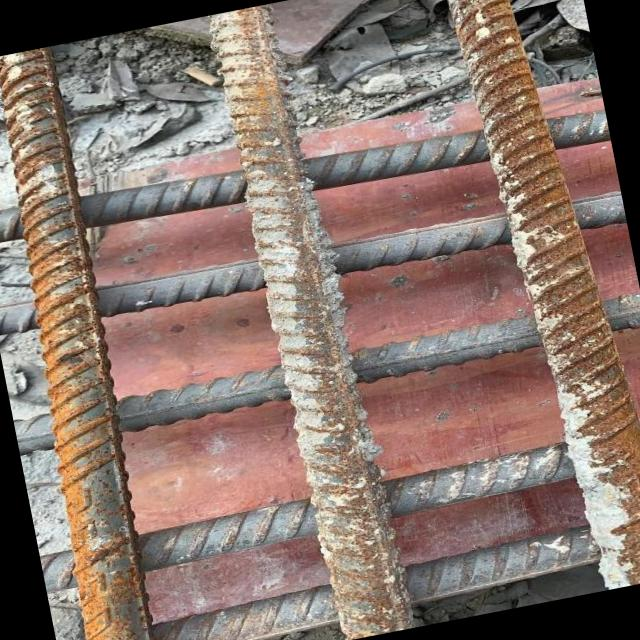ribbed bar: (208, 0, 426, 640), (434, 0, 640, 599), (38, 419, 640, 596), (0, 92, 611, 263), (13, 292, 640, 457), (0, 46, 174, 640), (0, 183, 627, 344), (54, 500, 640, 640)
